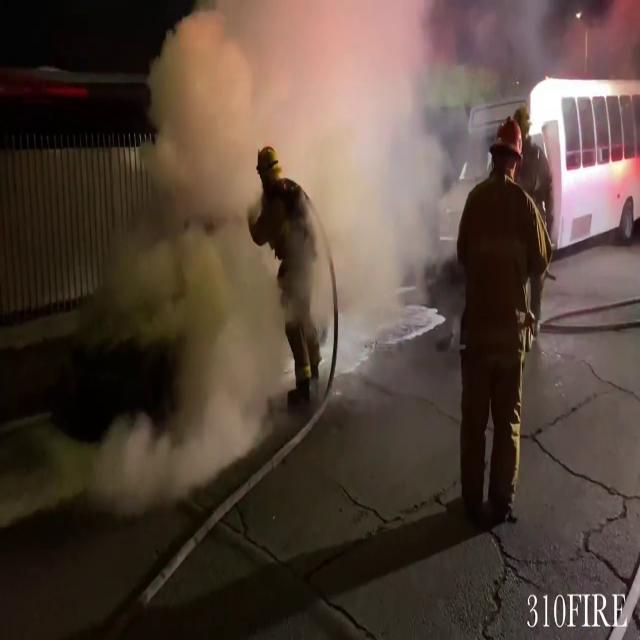Smoke: (104, 0, 466, 423)
